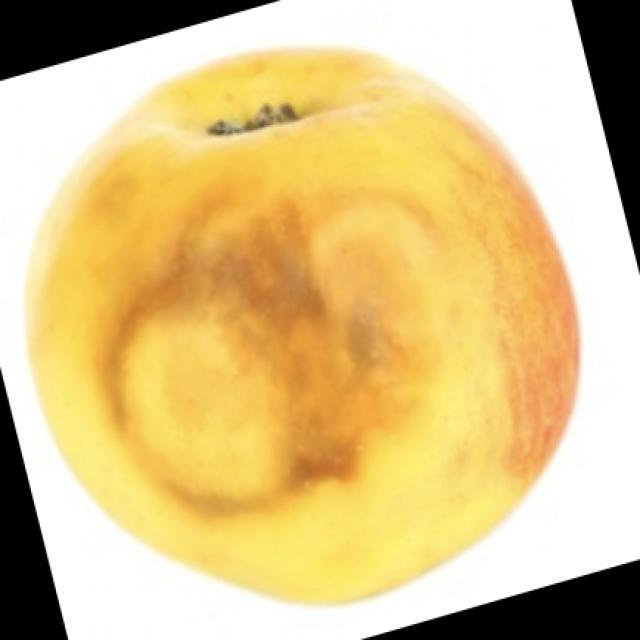Rotten: (40, 52, 578, 583)
